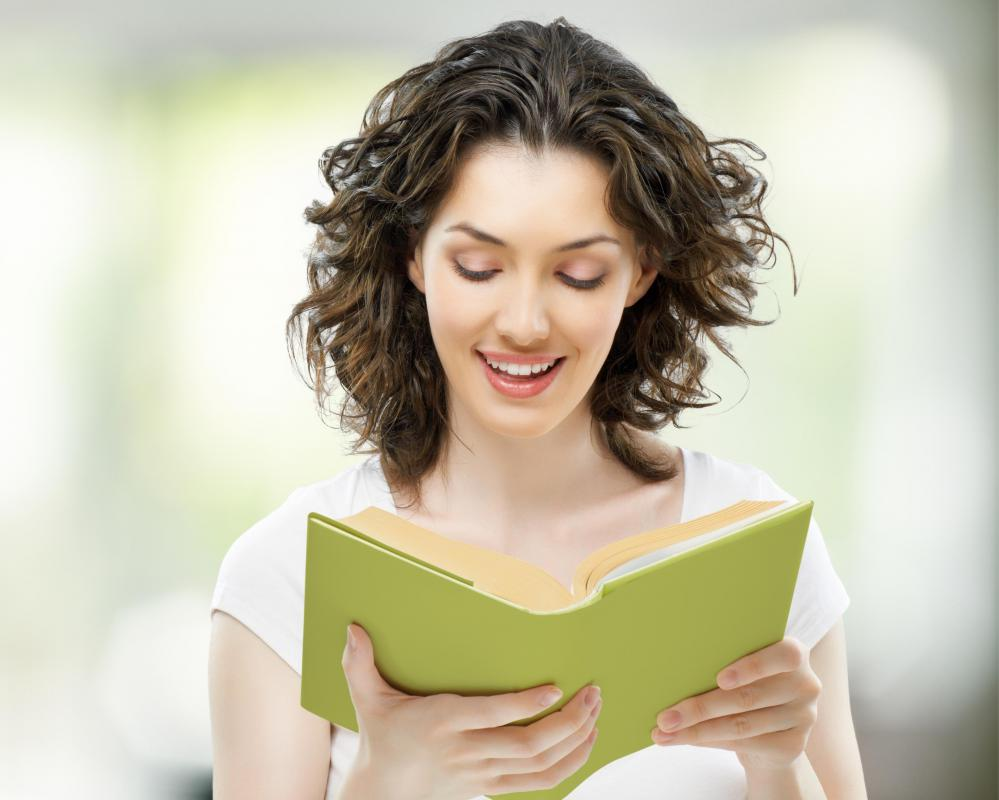book: (301, 501, 812, 793)
